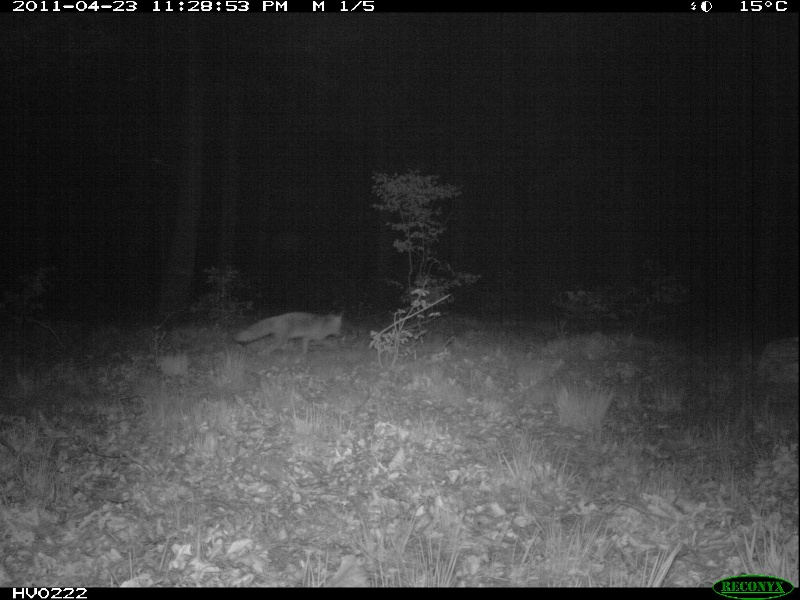fox: (237, 304, 348, 353)
